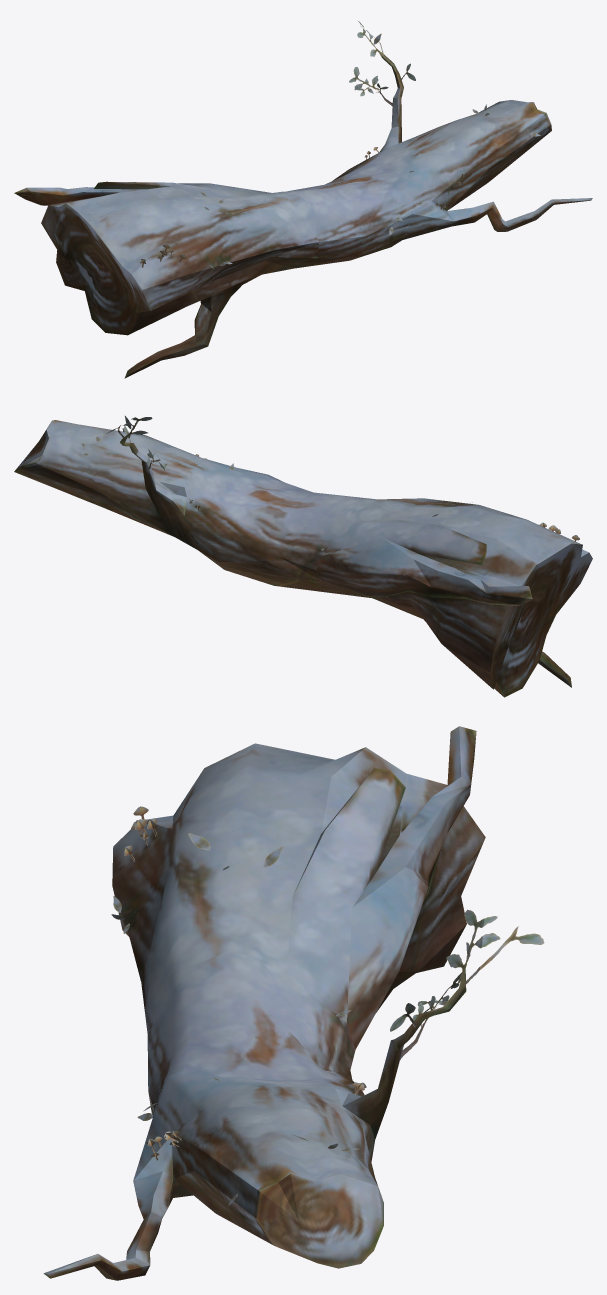
Rendered from rzjd_kushu_01.FBX.
3 views of the same model, one above another, from view 1: azimuth 30°, elevation 25°; view 2: azimuth 150°, elevation 25°; view 3: azimuth 270°, elevation 25° (orthographic). The views are drawn at different scales.
Visible parts, largest first — view 1: rzjd_kushu_01; view 2: rzjd_kushu_01; view 3: rzjd_kushu_01.
Part boxes in pixels (<box>): rzjd_kushu_01: <box>14,21,592,378</box>; rzjd_kushu_01: <box>14,416,592,697</box>; rzjd_kushu_01: <box>43,726,544,1280</box>.
Size of the model in its own units: 728 by 327 by 334.
